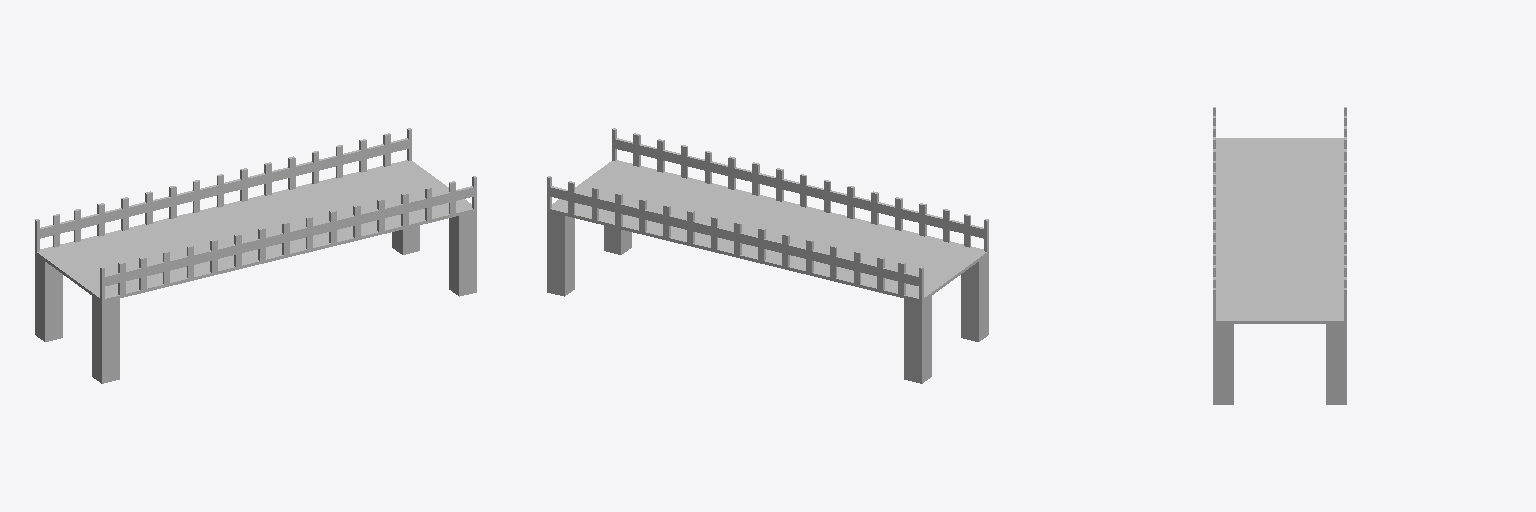
File: Ground.obj
The picture shows the model from 3 angles: view 1: azimuth 30°, elevation 25°; view 2: azimuth 150°, elevation 25°; view 3: azimuth 270°, elevation 25°; orthographic projection.
Visible parts, largest first — view 1: object 1; view 2: object 1; view 3: object 1.
Part boxes in pixels (x1,y1,x2,y2): object 1: (35, 128, 476, 383); object 1: (547, 128, 988, 383); object 1: (1213, 107, 1346, 404).
Size of the model in its own units: 12.6 by 3.7 by 3.9.